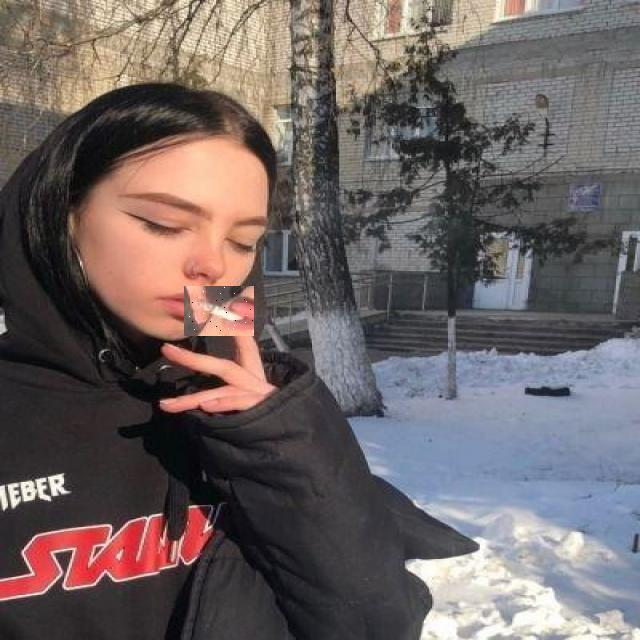smoking: (184, 286, 254, 336)
